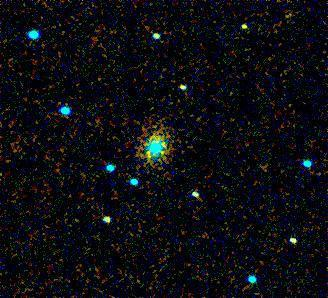star: (230, 11, 260, 41)
